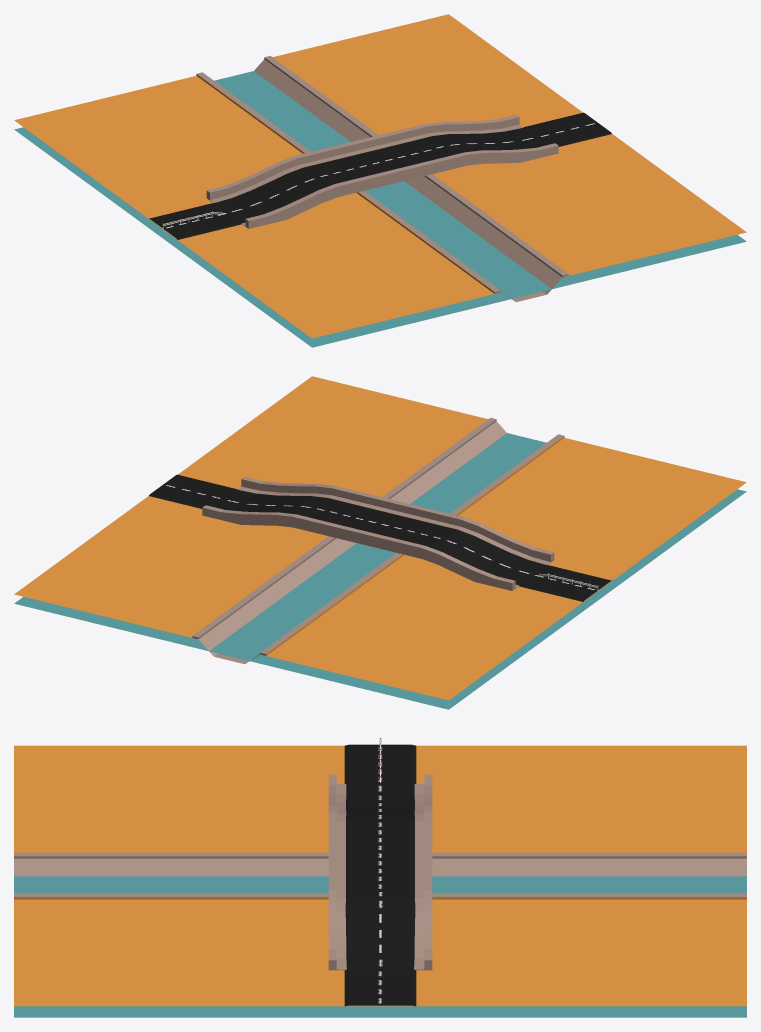
The model's file is Bridge.fbx.
3 renders of one model, top to bottom at view 1: azimuth 30°, elevation 25°; view 2: azimuth 150°, elevation 25°; view 3: azimuth 270°, elevation 25°, orthographic. The views are drawn at different scales.
Visible parts, largest first — view 1: SM_CanalMid, Water, SM_RoadBridgeMid; view 2: SM_CanalMid, Water, SM_RoadBridgeMid; view 3: SM_CanalMid, Water, SM_RoadBridgeMid.
Boxes of the visible parts, left/top/right/bottom form: SM_CanalMid: left=14, top=14, right=746, bottom=338; Water: left=14, top=71, right=746, bottom=347; SM_RoadBridgeMid: left=149, top=112, right=611, bottom=239; SM_CanalMid: left=14, top=376, right=746, bottom=700; Water: left=14, top=433, right=746, bottom=709; SM_RoadBridgeMid: left=149, top=474, right=611, bottom=601; SM_CanalMid: left=14, top=745, right=746, bottom=1006; Water: left=14, top=876, right=746, bottom=1017; SM_RoadBridgeMid: left=344, top=744, right=416, bottom=1006.
Size of what is drawn, in the model's own units: 8000 by 6740 by 509.
Materials: 2 (2 with a texture image).
